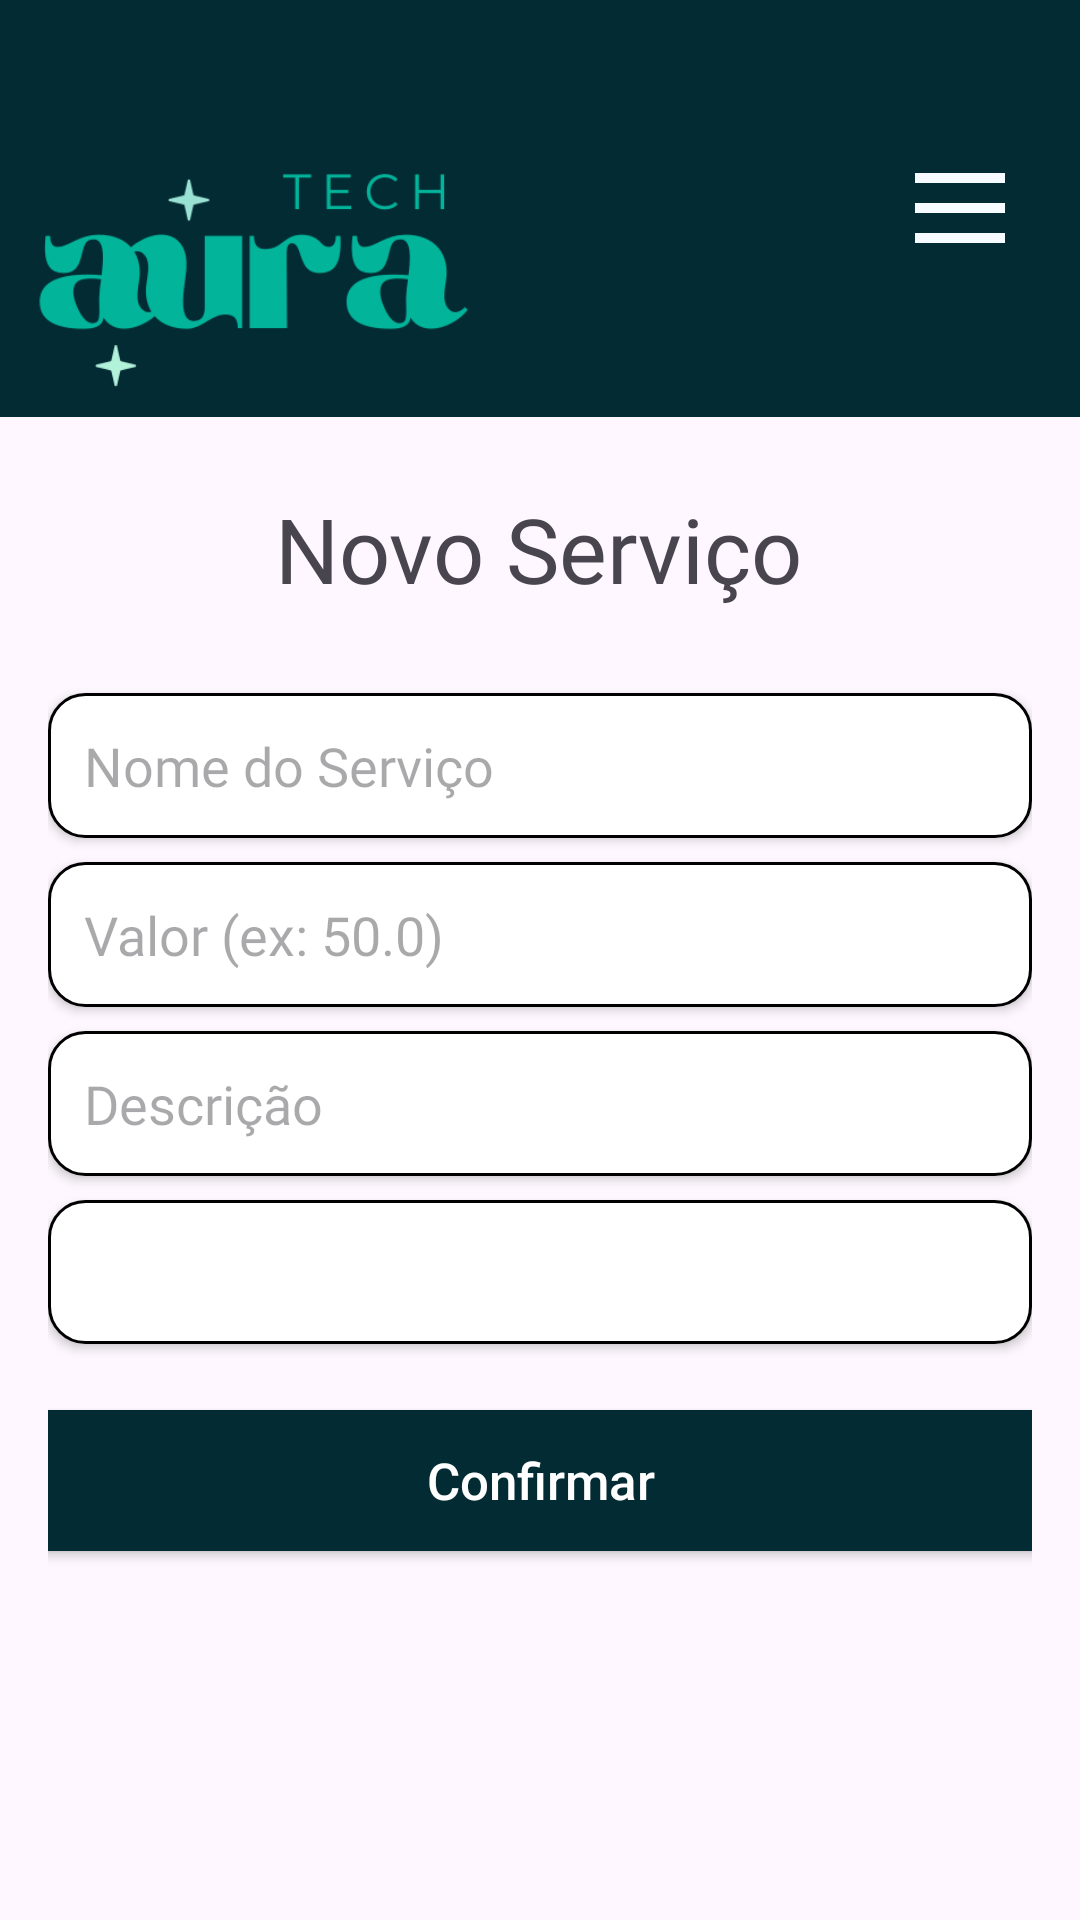

Icon bounding boxes for this 1080 x 1920 phone screenshot, format rect(x1, y1, x2, y2):
Menu: rect(915, 173, 1005, 243)
